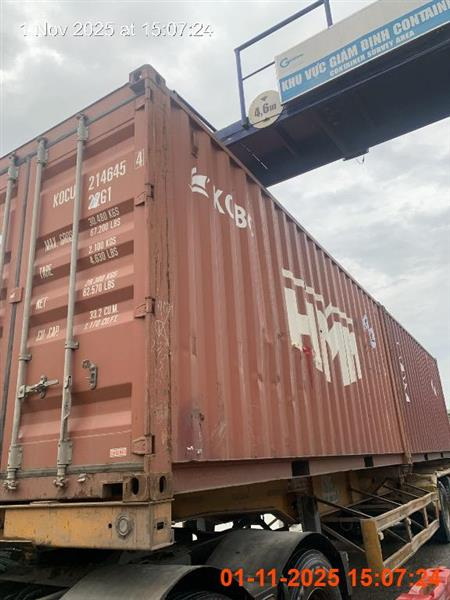crack: (0, 65, 449, 597)
